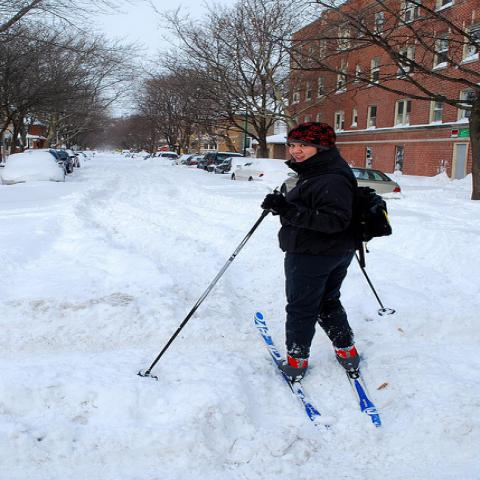car: (1, 152, 64, 184), (229, 158, 294, 181), (357, 170, 413, 196), (24, 148, 70, 172), (196, 152, 244, 172), (214, 158, 252, 174), (54, 148, 74, 172), (176, 154, 206, 166), (64, 149, 80, 168), (155, 151, 180, 160)
